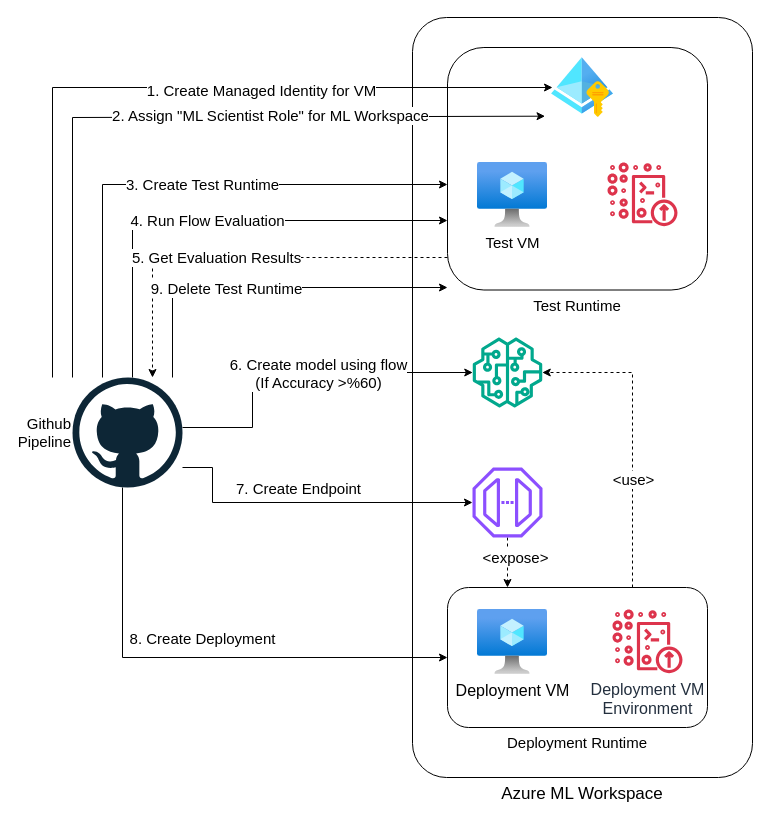
Image size: 770x822. Some labels were removed from this diagram. The box of each missing label's shape, as (x1, y1, x2, y2) in pixels:
Deployment Endpoint: (472, 467, 542, 537)
ML Compute Managed Identity: (551, 57, 613, 117)
Model: (472, 337, 542, 407)
Test VM Environment: (607, 162, 677, 226)
